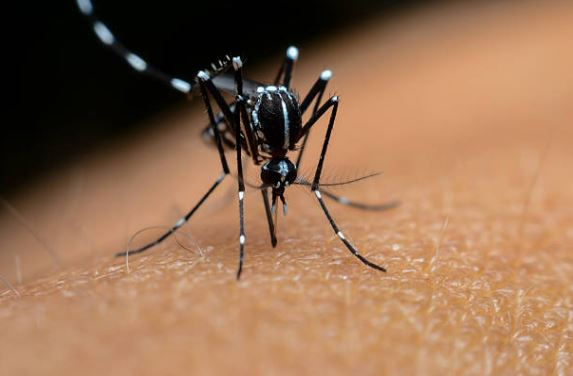dengue_mosquito: (119, 46, 386, 273)
